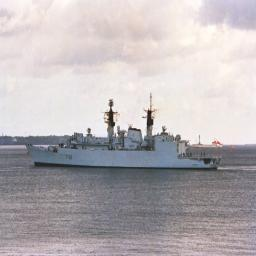Fragata: (25, 94, 223, 171)
